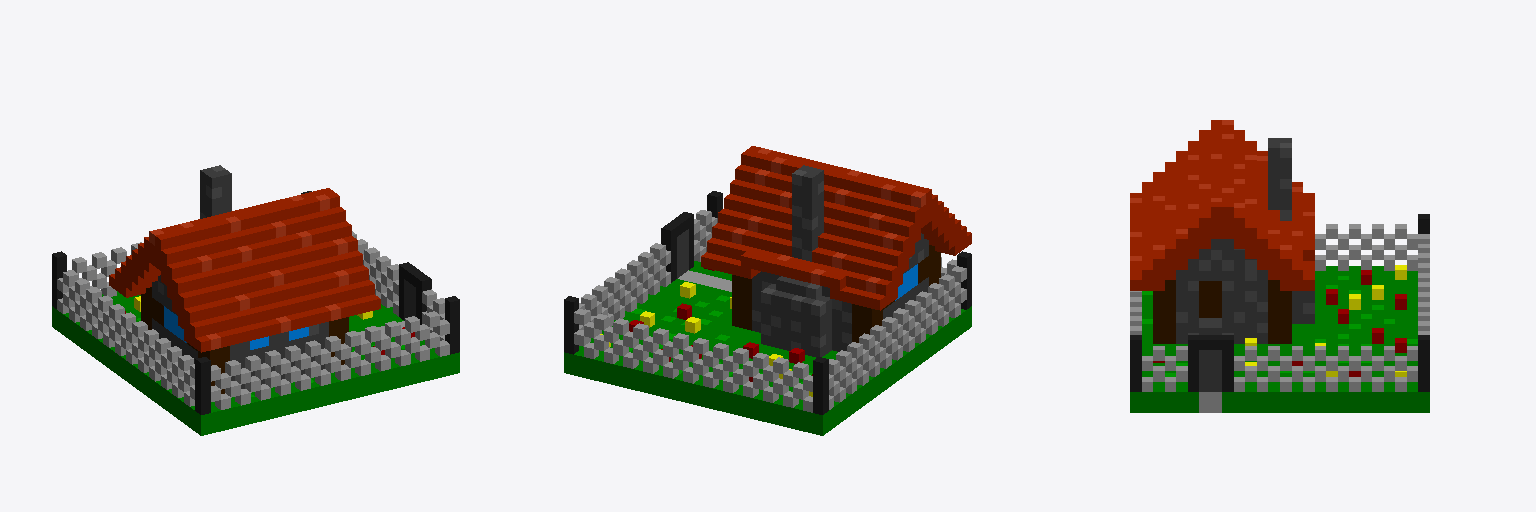
3 renders of one model, left to right at view 1: azimuth 30°, elevation 25°; view 2: azimuth 150°, elevation 25°; view 3: azimuth 270°, elevation 25°, orthographic.
Parts seen in each view (by area): view 1: object 1; view 2: object 1; view 3: object 1.
Boxes of the visible parts, x1=… form: object 1: x1=52, y1=165, x2=459, y2=435; object 1: x1=564, y1=146, x2=971, y2=435; object 1: x1=1130, y1=120, x2=1429, y2=412.
Size of the model in its own units: 2.6 by 1.8 by 2.6.
Materials: 1 (1 with a texture image).